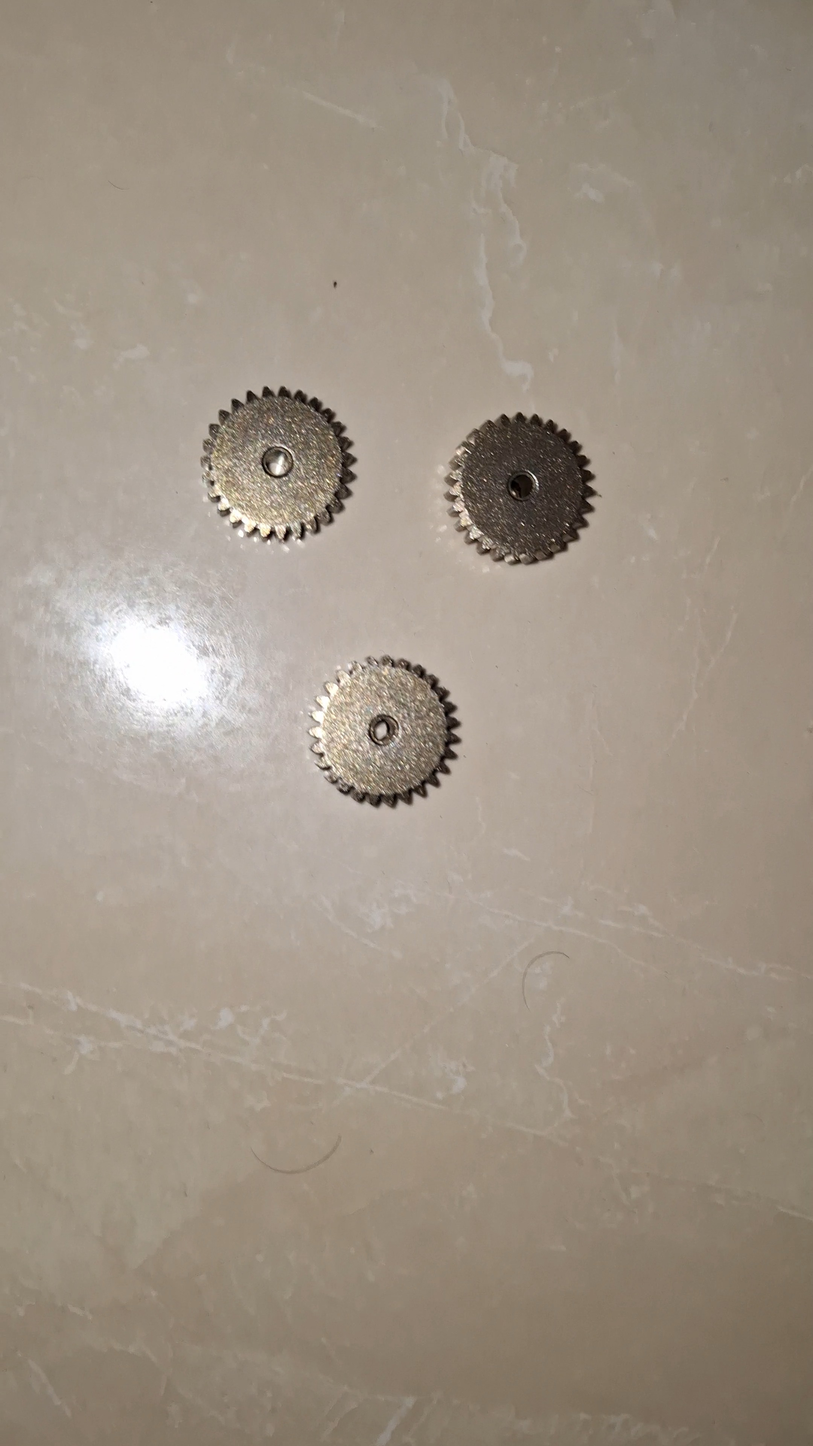spur gear: (202, 387, 354, 540), (310, 656, 458, 805), (447, 413, 593, 563)
